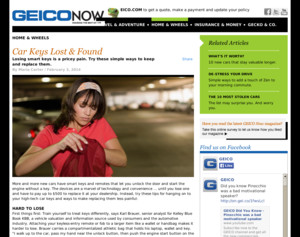geico: (11, 8, 71, 23)
